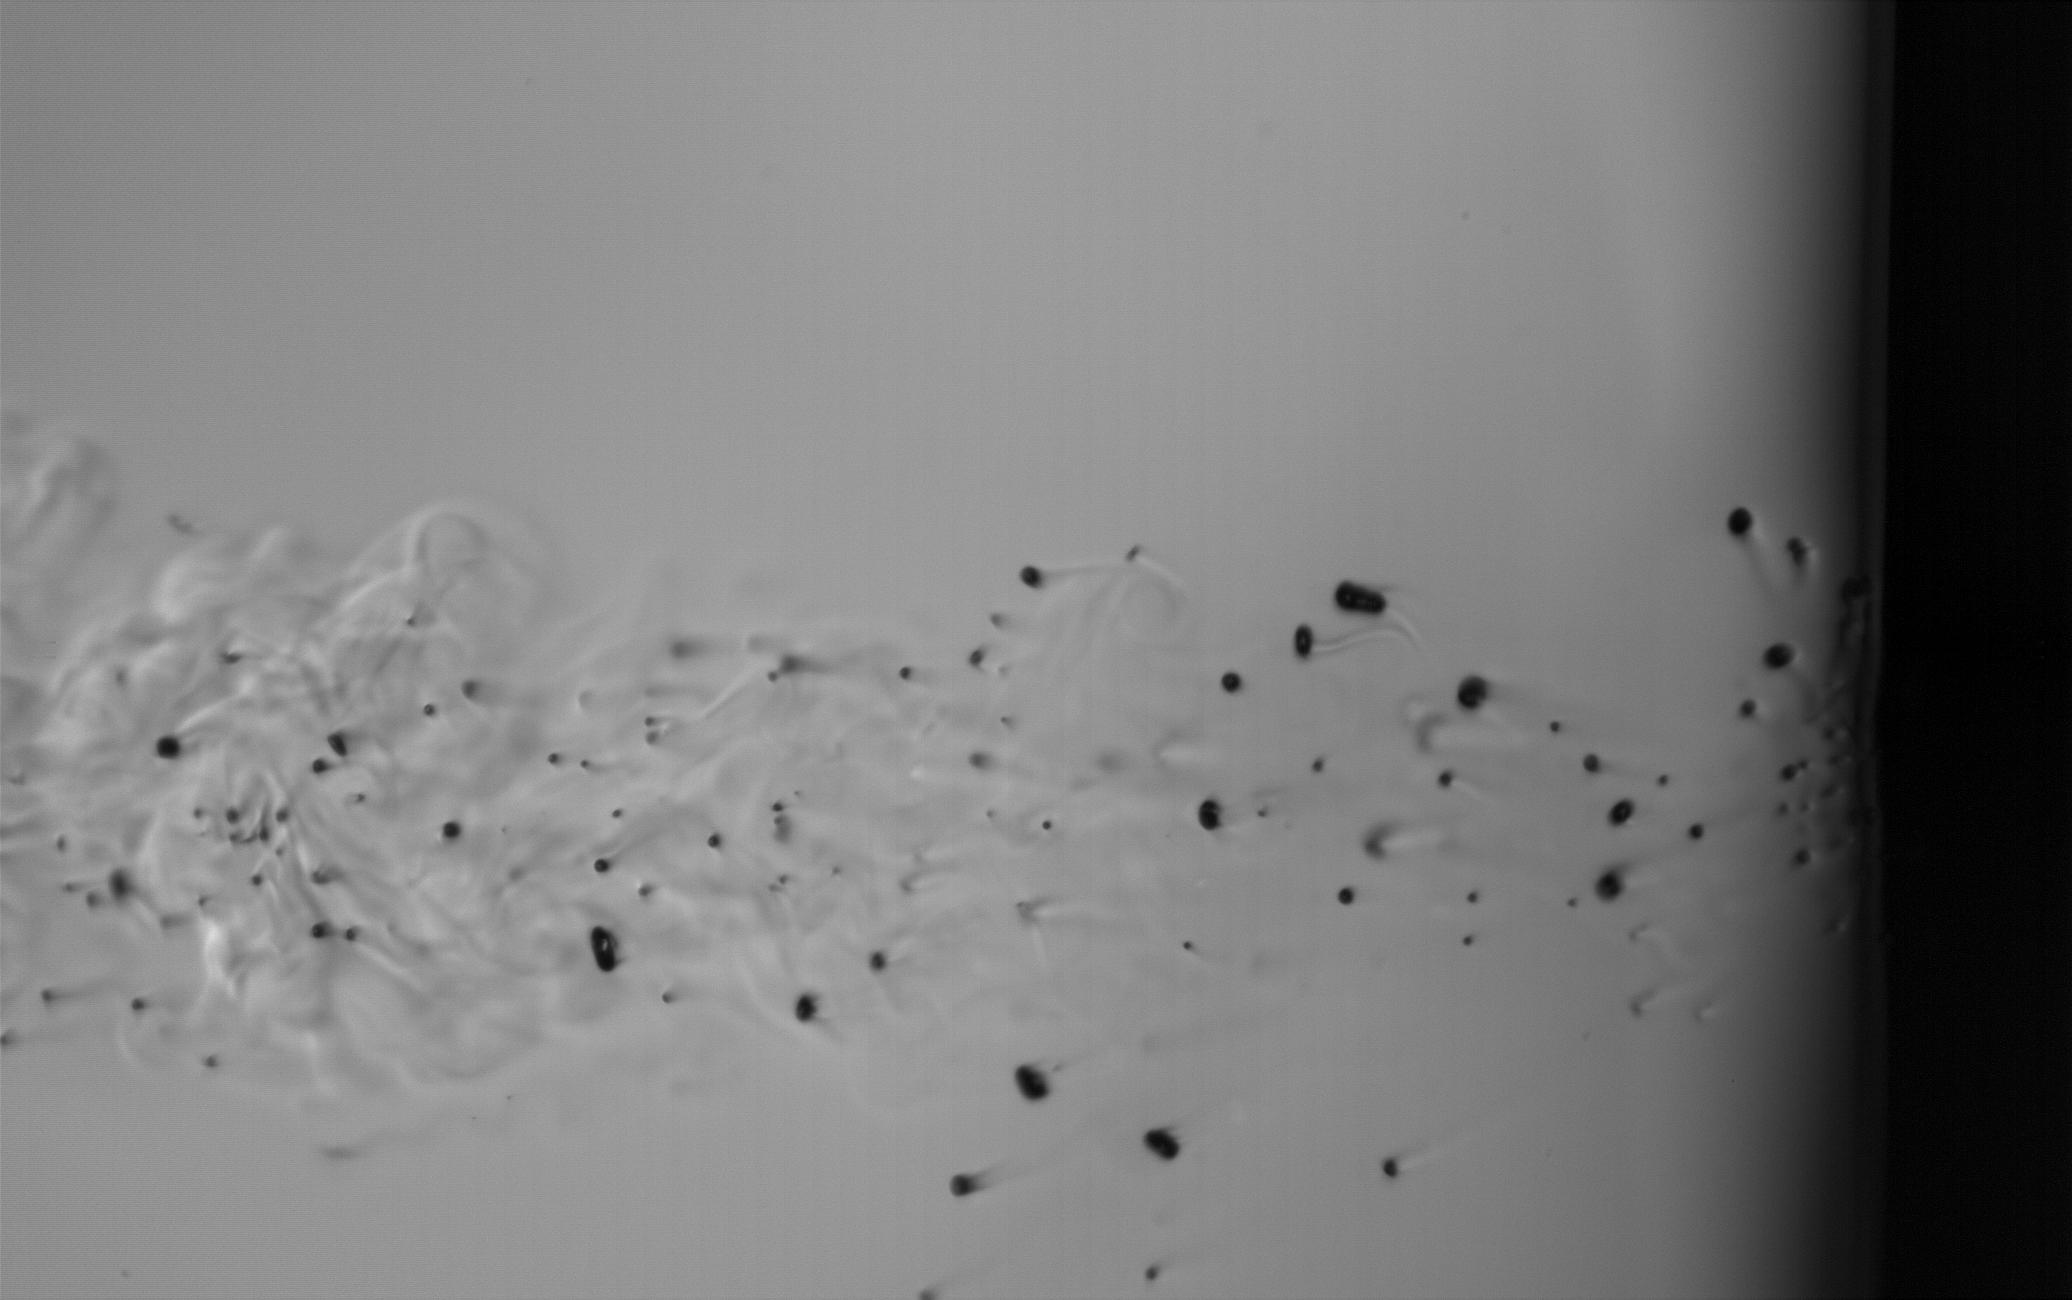ClassicalEvaporation: (1451, 668, 1496, 714), (1198, 792, 1237, 833), (1590, 864, 1626, 902), (1674, 812, 1710, 849), (1764, 638, 1800, 675), (1605, 791, 1641, 828), (1723, 505, 1758, 541), (196, 1044, 231, 1078), (1216, 663, 1250, 698), (946, 1167, 981, 1201), (436, 813, 470, 848), (121, 984, 156, 1018), (1731, 689, 1765, 723), (862, 944, 895, 979), (153, 732, 186, 768), (305, 750, 338, 786), (960, 743, 993, 777), (1377, 1149, 1410, 1183), (1579, 749, 1612, 783), (963, 638, 996, 672), (302, 912, 335, 947), (1329, 881, 1362, 915), (1015, 563, 1043, 592), (1436, 770, 1463, 798), (705, 827, 728, 851), (638, 708, 660, 732), (1039, 810, 1061, 834), (1773, 800, 1795, 824), (343, 923, 365, 947), (222, 804, 244, 828), (765, 794, 787, 818), (603, 803, 626, 827), (246, 869, 268, 891), (542, 747, 564, 770), (894, 663, 916, 686), (1791, 843, 1813, 866), (588, 854, 611, 876), (269, 807, 292, 830), (630, 881, 653, 903), (761, 668, 783, 690), (1776, 759, 1797, 783), (1142, 1263, 1163, 1285), (573, 753, 594, 776), (418, 699, 439, 722), (1457, 932, 1478, 953), (1464, 887, 1484, 908), (1310, 753, 1329, 774), (1654, 771, 1674, 792), (1547, 717, 1566, 738), (1177, 936, 1196, 957), (1563, 894, 1579, 911), (1255, 803, 1270, 821)
TransitionalMixing: (1323, 574, 1392, 622), (1011, 1060, 1064, 1108), (585, 924, 624, 976), (1141, 1123, 1183, 1167), (787, 988, 820, 1035), (320, 728, 355, 764), (1291, 620, 1314, 663), (659, 988, 669, 1005)
